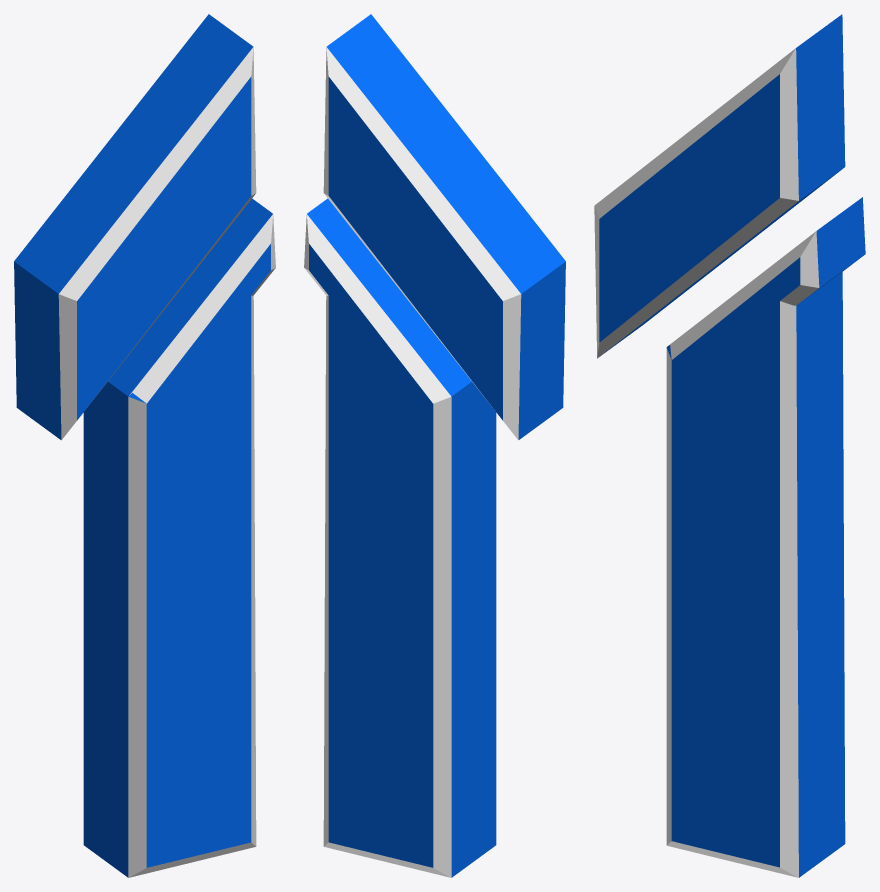
File: number_1.fbx
3 views of the same model, side by side, from view 1: azimuth 30°, elevation 25°; view 2: azimuth 150°, elevation 25°; view 3: azimuth 330°, elevation 25° (orthographic). The views are drawn at different scales.
Visible parts, largest first — view 1: 1; view 2: 1; view 3: 1.
Boxes of the visible parts, left/top/right/bottom form: 1: left=14, top=14, right=275, bottom=877; 1: left=304, top=14, right=565, bottom=877; 1: left=594, top=14, right=865, bottom=877.
Size of the model in its own units: 56.08 by 198 by 26.
